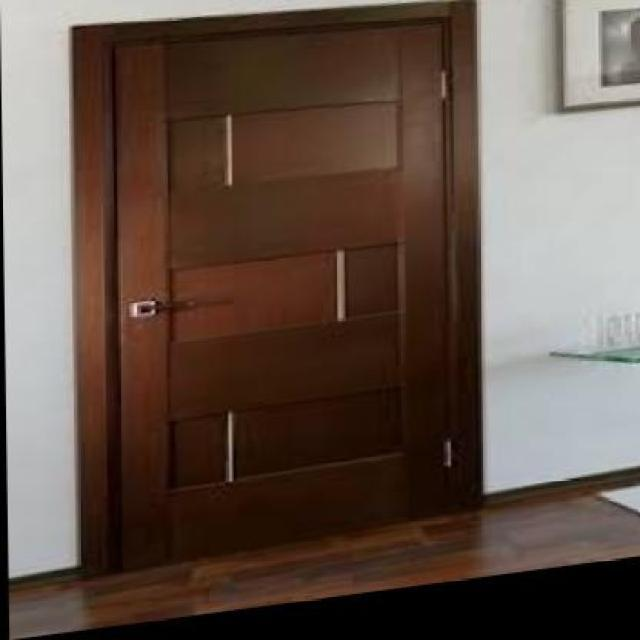door: (101, 22, 470, 573)
